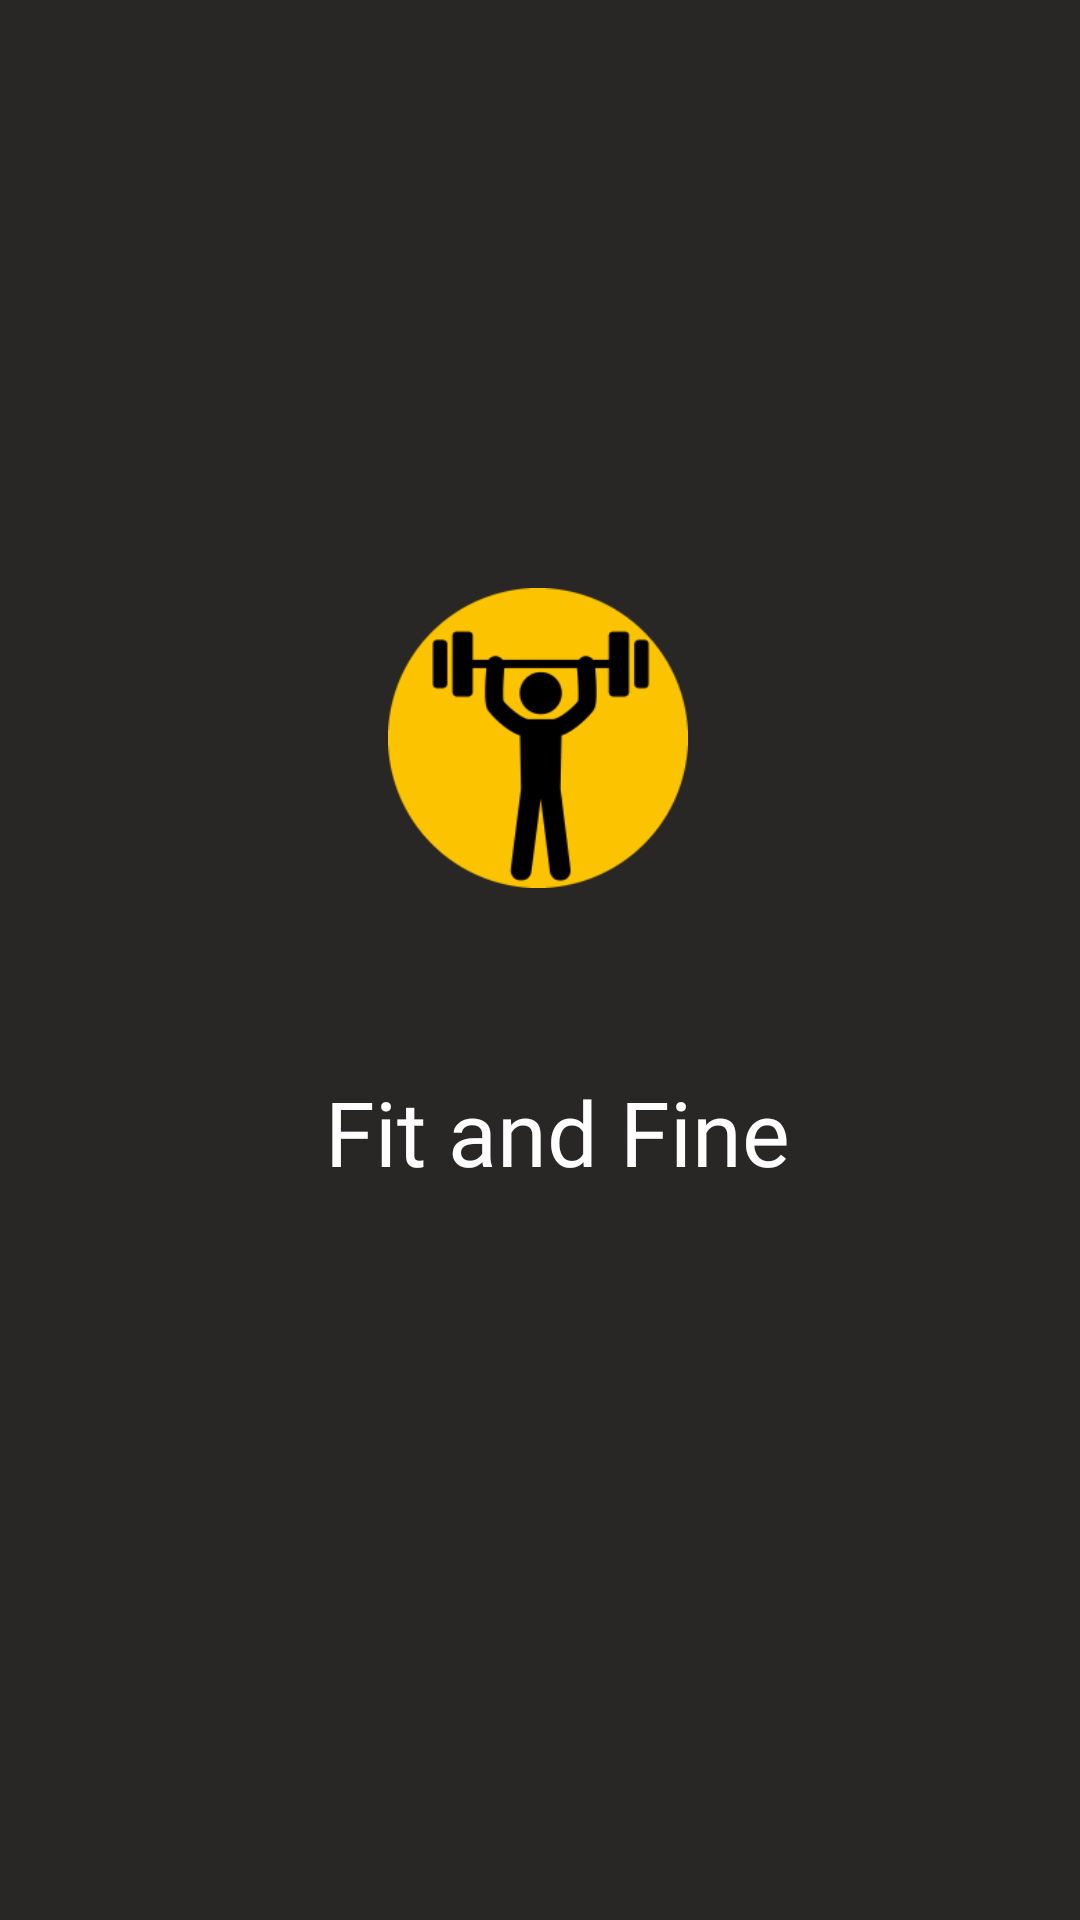

Point at icon controls on the screen. Image size 1080x1920, points as point (x, y).
fit: point (538, 738)
